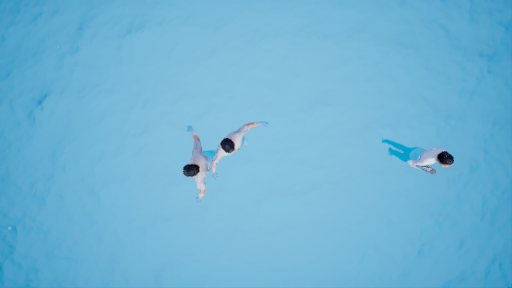person: (211, 113, 271, 182), (376, 132, 461, 178), (178, 124, 224, 205)
